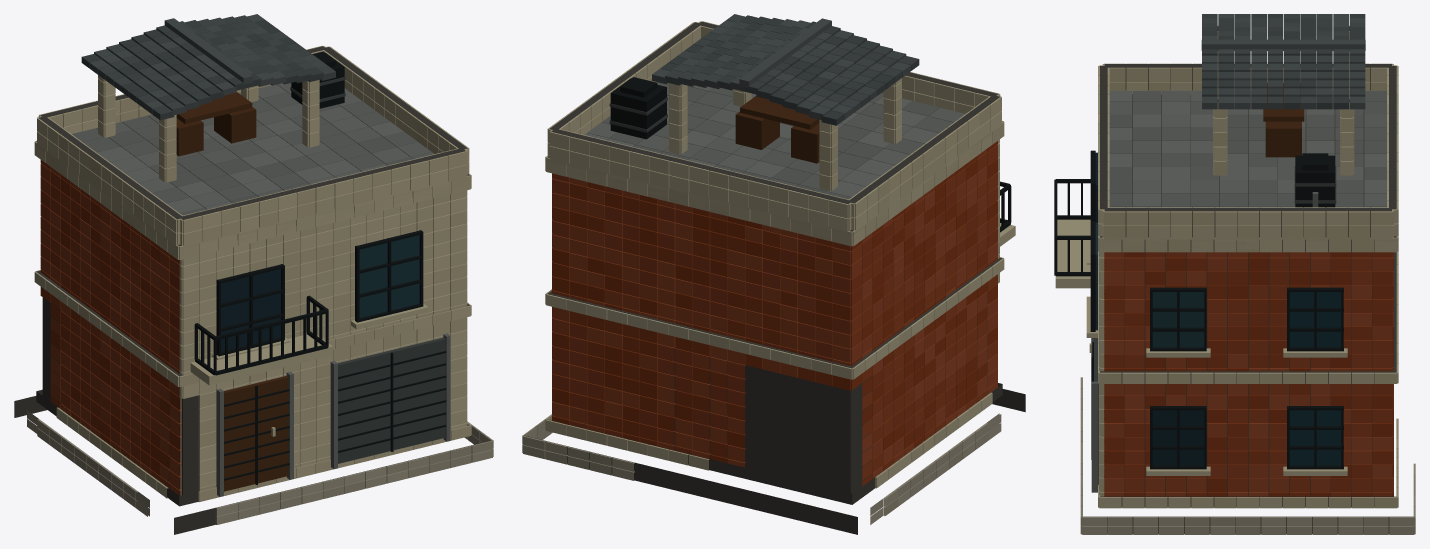
Rendered from SM_StreetFrontage_042.fbx.
3 renders of one model, left to right at view 1: azimuth 30°, elevation 25°; view 2: azimuth 150°, elevation 25°; view 3: azimuth 270°, elevation 25°, orthographic. The views are drawn at different scales.
Visible parts, largest first — view 1: SM_StreetFrontage_042; view 2: SM_StreetFrontage_042; view 3: SM_StreetFrontage_042.
Boxes of the visible parts, x1=… form: SM_StreetFrontage_042: x1=14, y1=14, x2=493, y2=534; SM_StreetFrontage_042: x1=522, y1=14, x2=1025, y2=534; SM_StreetFrontage_042: x1=1054, y1=14, x2=1415, y2=534.
Bounding box in the file's own units: 8 × 7.53 × 9.15.
